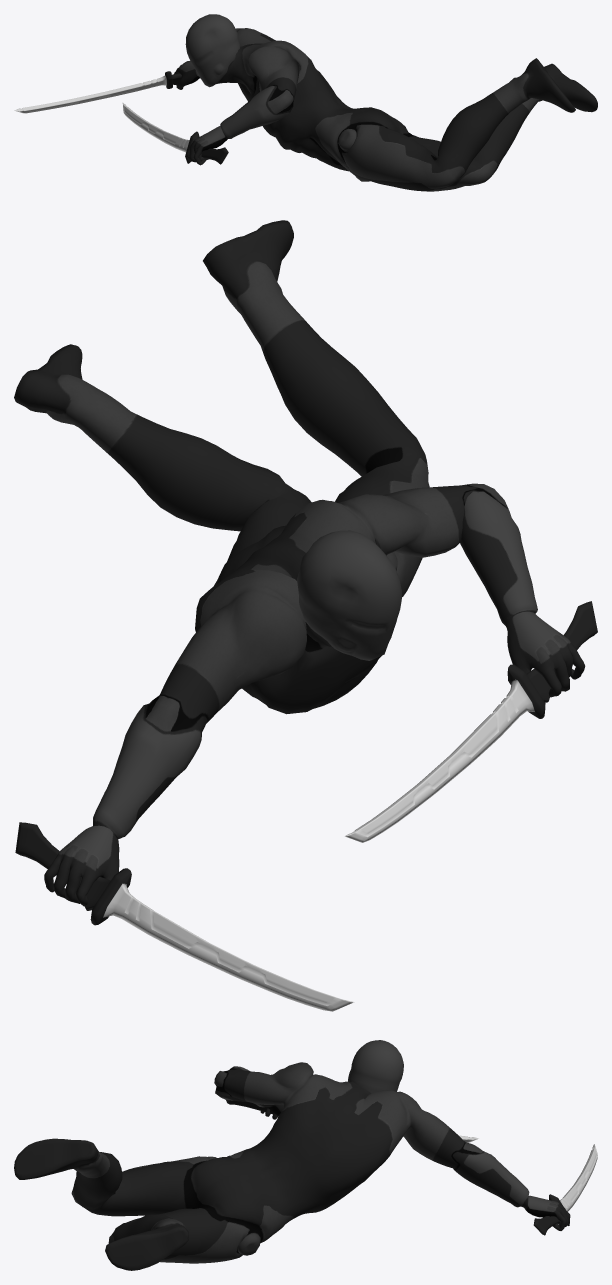
3 views of the same model, one above another, from view 1: azimuth 30°, elevation 25°; view 2: azimuth 150°, elevation 25°; view 3: azimuth 270°, elevation 25° (orthographic). The views are drawn at different scales.
Parts seen in each view (by area): view 1: Cyborg_Ninja_Killer, Sword_l001, Sword_l; view 2: Cyborg_Ninja_Killer, Sword_l001, Sword_l; view 3: Cyborg_Ninja_Killer, Sword_l001.
Boxes of the visible parts, x1,y1,x2,y2 form: Cyborg_Ninja_Killer: (174, 14, 597, 191); Sword_l001: (14, 71, 181, 113); Sword_l: (122, 102, 228, 164); Cyborg_Ninja_Killer: (14, 220, 585, 906); Sword_l001: (15, 822, 354, 1011); Sword_l: (345, 601, 597, 842); Cyborg_Ninja_Killer: (14, 1040, 570, 1270); Sword_l001: (533, 1144, 597, 1235).
Size of the model in its own units: 160 by 64.18 by 199.
2 materials, 2 textured.
